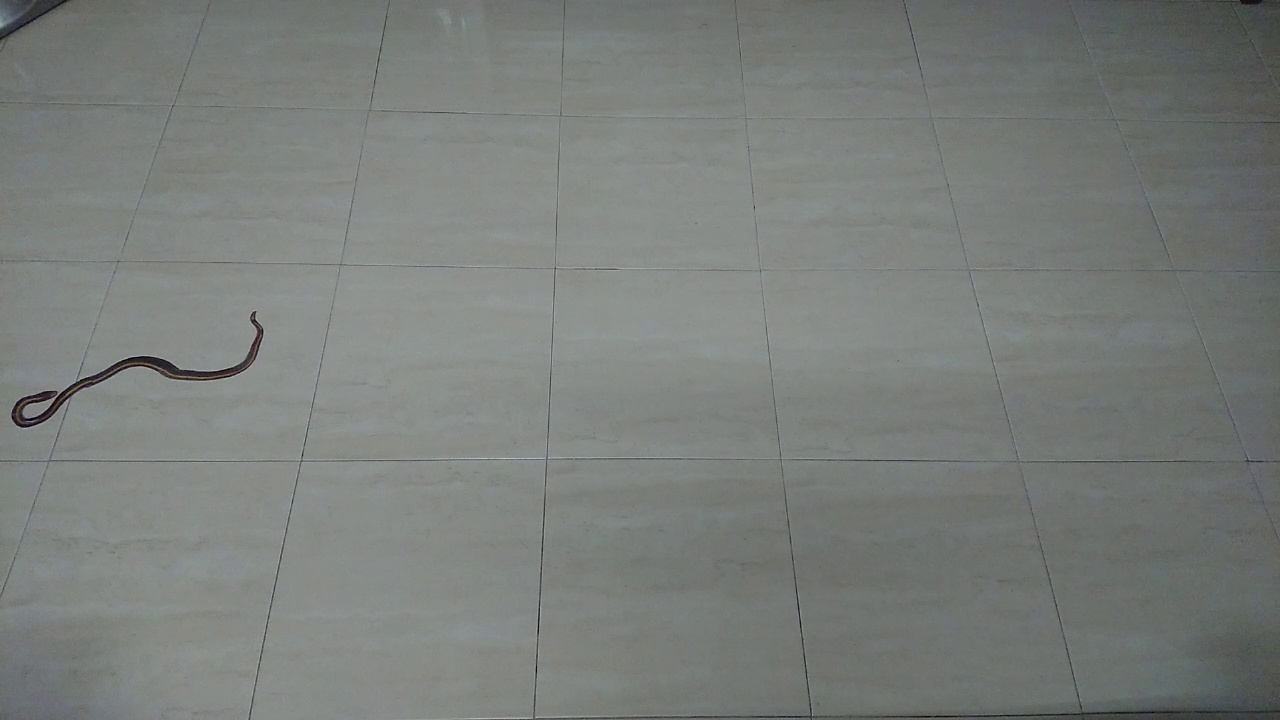snake: (1, 306, 279, 438)
